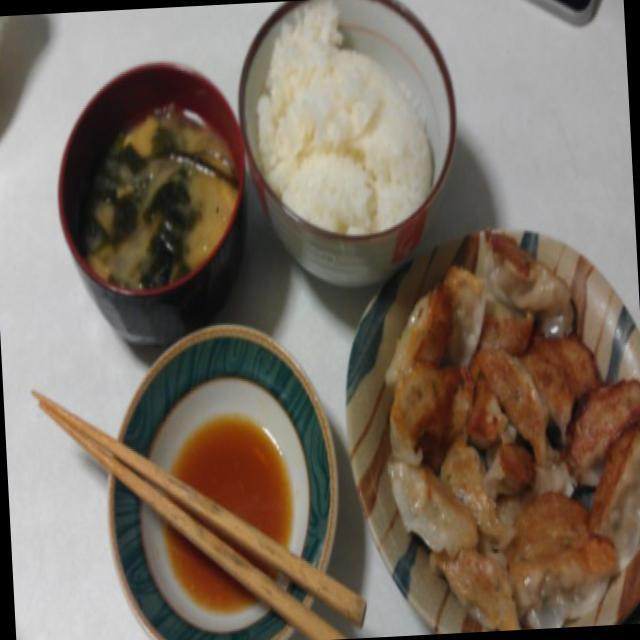Rice: (238, 0, 447, 220)
